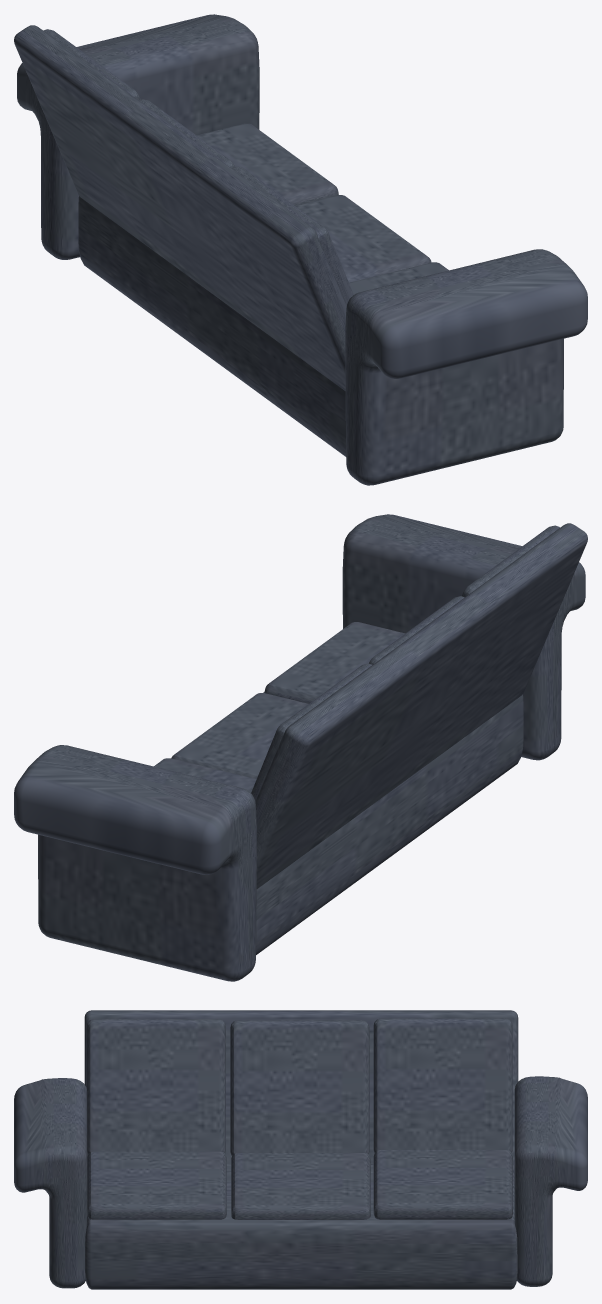
File: couch.fbx
The picture shows the model from 3 angles, top to bottom: view 1: azimuth 30°, elevation 25°; view 2: azimuth 150°, elevation 25°; view 3: azimuth 270°, elevation 25°; orthographic projection. The views are drawn at different scales.
Parts seen in each view (by area): view 1: pCube4; view 2: pCube4; view 3: pCube4.
Part boxes in pixels (<box>): pCube4: <box>14,14,587,485</box>; pCube4: <box>14,514,587,981</box>; pCube4: <box>14,1010,587,1289</box>.
Size of the model in its own units: 5.75 by 5.53 by 14.84.
Materials: 1 (1 with a texture image).
